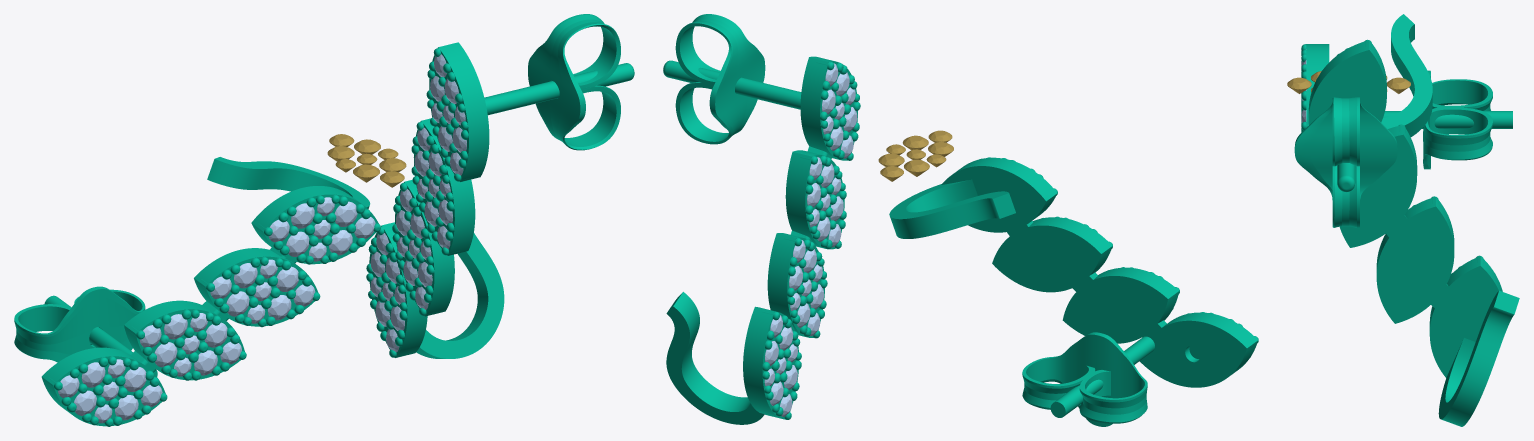
3 renders of one model, left to right at view 1: azimuth 30°, elevation 25°; view 2: azimuth 150°, elevation 25°; view 3: azimuth 270°, elevation 25°, orthographic. The views are drawn at different scales.
Visible parts, largest first — view 1: VEAR159.3dm; view 2: VEAR159.3dm; view 3: VEAR159.3dm, Diamond_Round (×2).
Boxes of the visible parts, x1,y1,x2,y2 form: VEAR159.3dm: [14, 14, 634, 426]; VEAR159.3dm: [663, 14, 1258, 426]; VEAR159.3dm: [1294, 14, 1519, 426]; Diamond_Round (×2): [1287, 77, 1410, 93].
Bounding box in the file's own units: 3.33 × 1.92 × 1.14.
